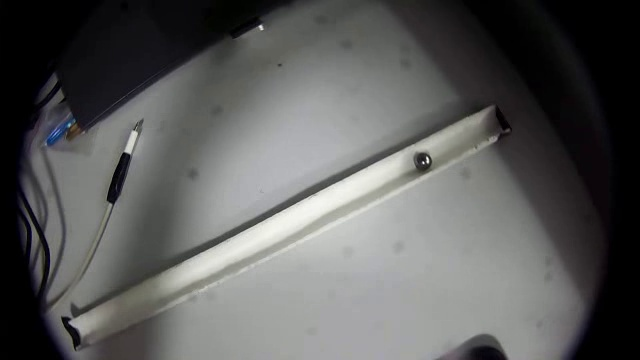gangzhu: (413, 151, 433, 171)
